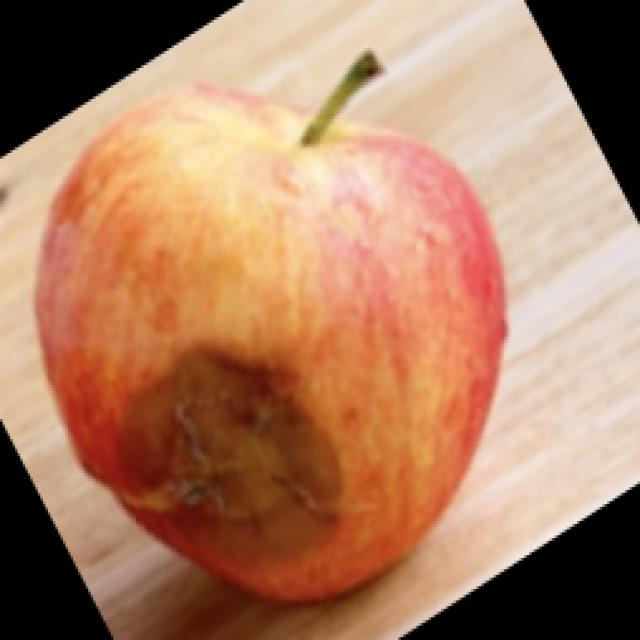Rotten: (33, 75, 507, 627)
